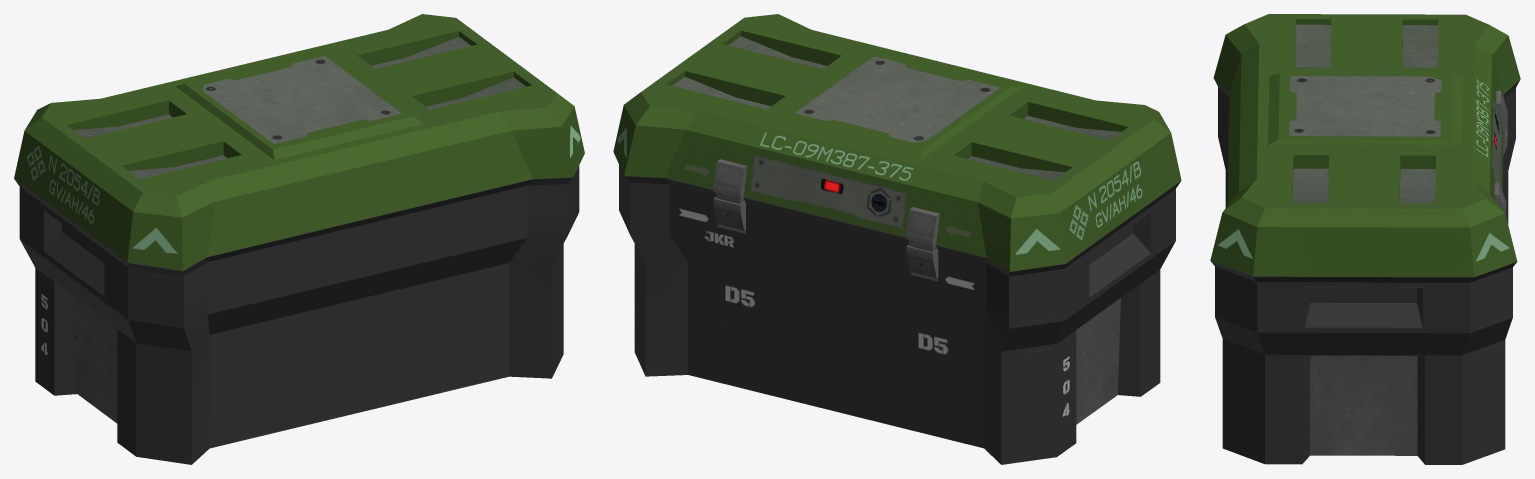
The picture shows the model from 3 angles, left to right: view 1: azimuth 30°, elevation 25°; view 2: azimuth 150°, elevation 25°; view 3: azimuth 270°, elevation 25°; orthographic projection. The views are drawn at different scales.
Parts seen in each view (by area): view 1: down_low, top_low, top2_low; view 2: down_low, top_low, top2_low, lock_low; view 3: top_low, down_low, top2_low, lock_low.
Part boxes in pixels (x1,y1,x2,y2): down_low: (14, 165, 579, 464); top_low: (14, 14, 584, 271); top2_low: (175, 50, 423, 159); down_low: (619, 165, 1180, 464); top_low: (613, 14, 1181, 271); top2_low: (773, 50, 1021, 160); lock_low: (713, 159, 939, 278); top_low: (1210, 14, 1520, 277); down_low: (1211, 79, 1520, 464); top2_low: (1268, 73, 1462, 146); lock_low: (1494, 91, 1507, 214).
Bounding box in the file's own units: 1.29 × 0.7235 × 0.7882.
1 material, 1 textured.
